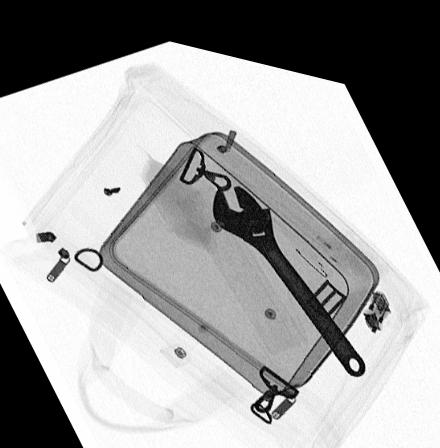Wrench: (209, 171, 366, 363)
